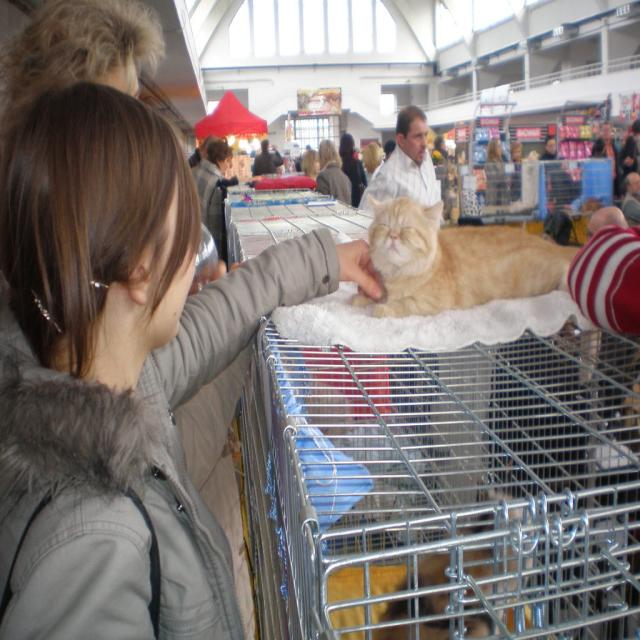Cat: (346, 185, 586, 322)
